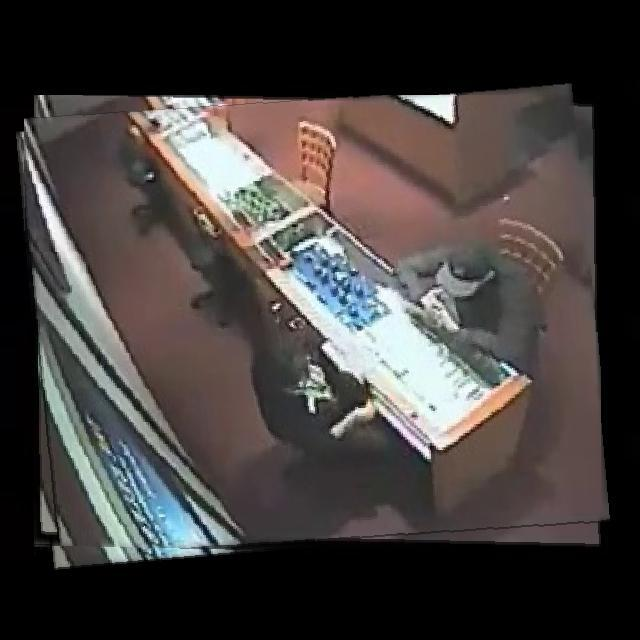Normal: (23, 95, 601, 558)
